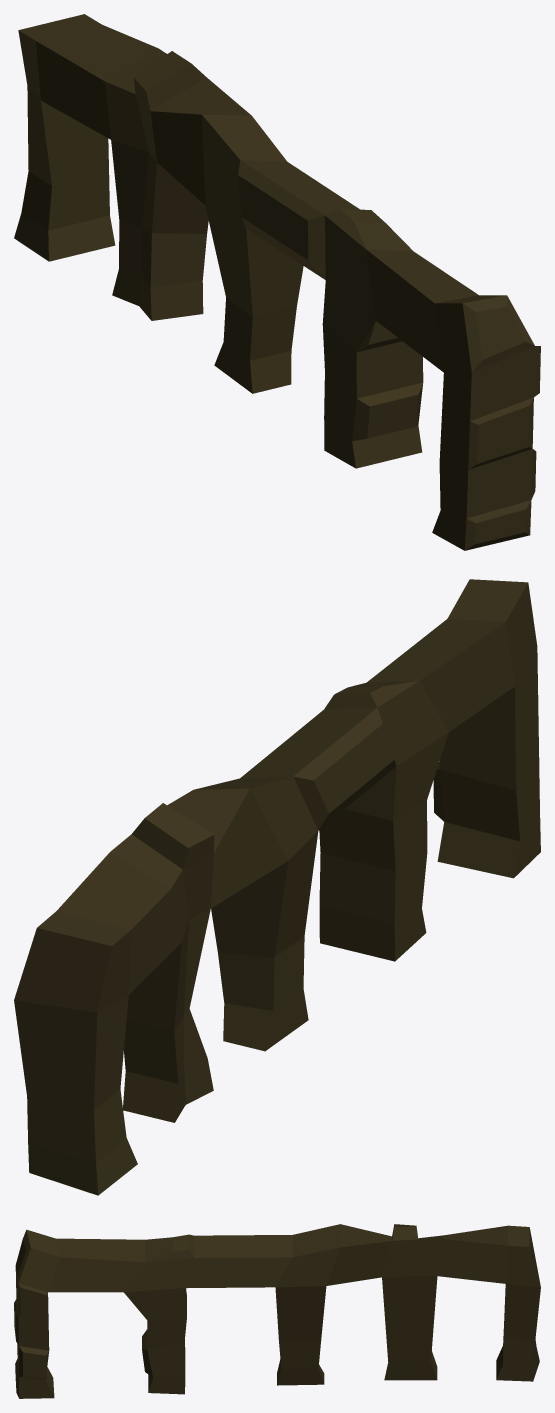
Rendered from 4_portas.fbx.
The picture shows the model from 3 angles, top to bottom: view 1: azimuth 30°, elevation 25°; view 2: azimuth 150°, elevation 25°; view 3: azimuth 270°, elevation 25°; orthographic projection. The views are drawn at different scales.
Parts seen in each view (by area): view 1: 4 portas; view 2: 4 portas; view 3: 4 portas.
Part boxes in pixels (x1=…): 4 portas: x1=14, y1=14, x2=540, y2=550; 4 portas: x1=14, y1=579, x2=540, y2=1195; 4 portas: x1=14, y1=1224, x2=540, y2=1398.
Size of the model in its own units: 605 by 1343 by 3973.
